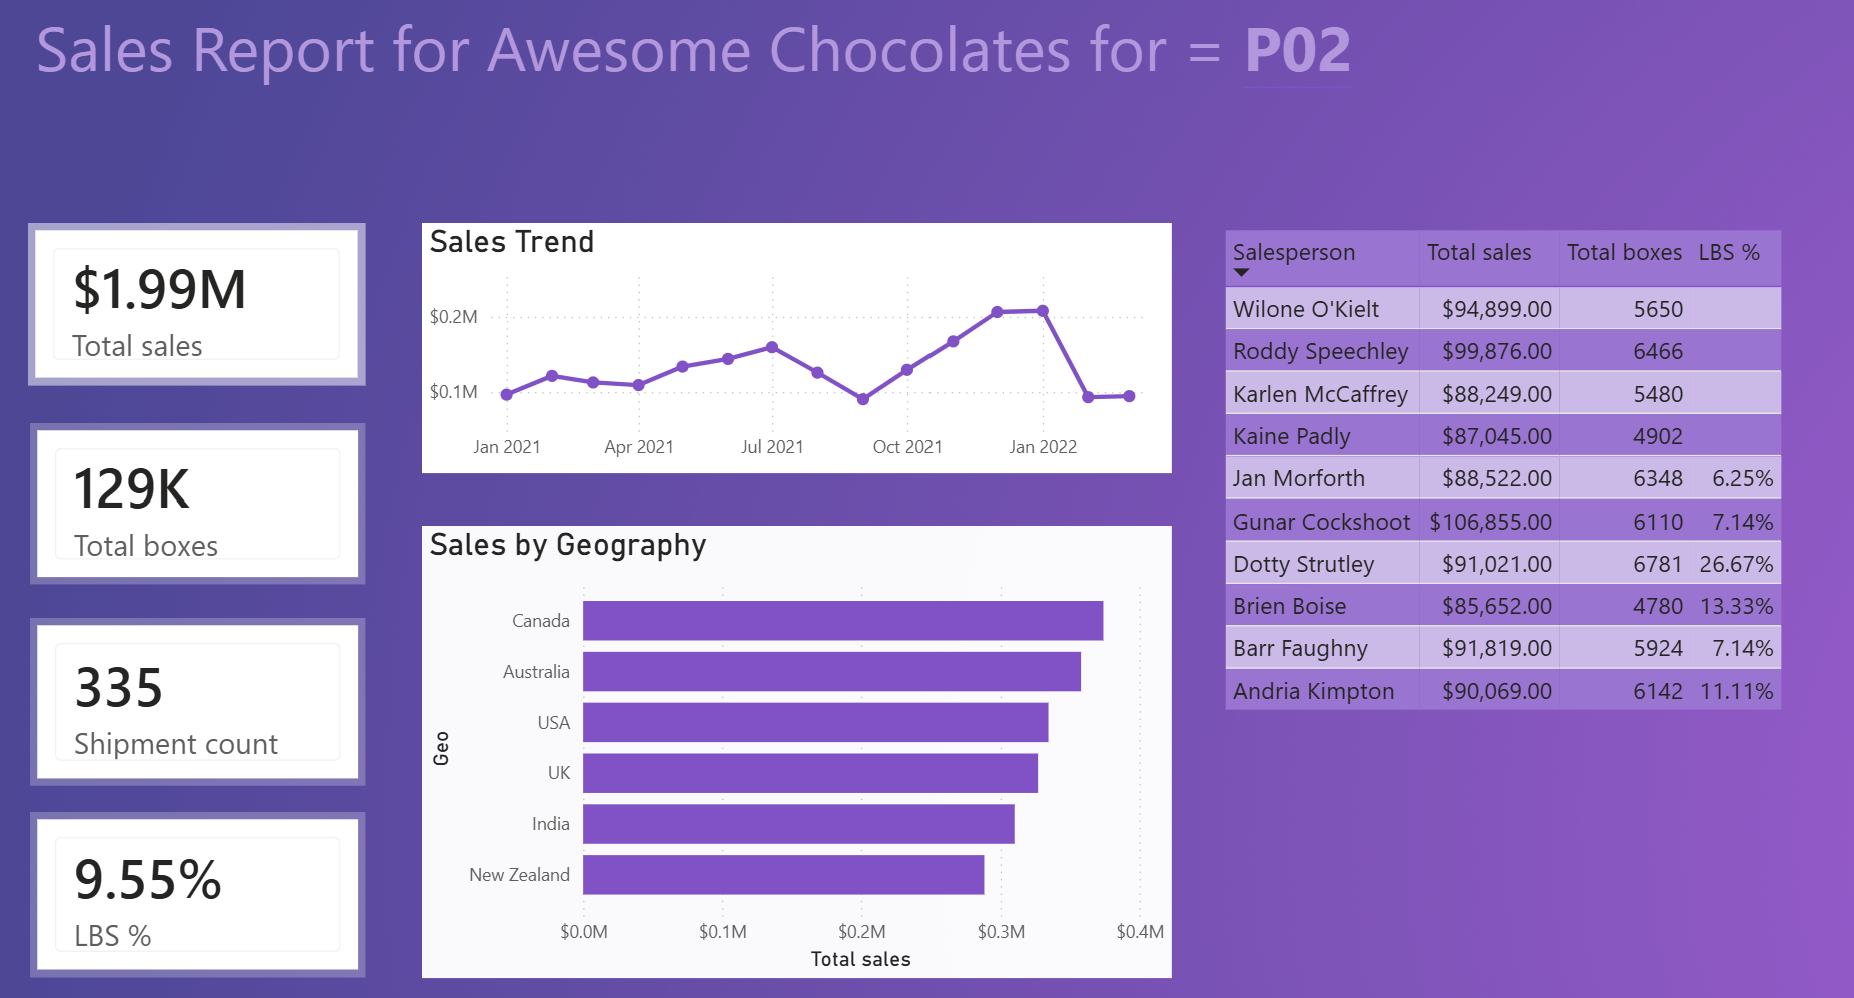

The page's visual inventory and layout, read from the dashboard file:
{"tool":"powerbi","page":{"name":"Page 1","canvas":[1280,720],"ordinal":0},"visuals":[{"type":"cardVisual","fields":{"Data":["sales.Total sales"]},"box":[23.3,188.3,231.7,111.7],"z":0},{"type":"cardVisual","fields":{"Data":["sales.Total boxes"]},"box":[25,325,230,110],"z":1000},{"type":"cardVisual","fields":{"Data":["sales.Shipment count"]},"box":[25,458.3,230,115],"z":2000},{"type":"cardVisual","fields":{"Data":["sales.LBS %"]},"box":[25,591.7,230,113.3],"z":3000},{"type":"lineChart","title":"Sales Trend","fields":{"Y":["sales.Total sales"],"Category":["sales.SaleDate.Variation.Date Hierarchy.Year","sales.SaleDate.Variation.Date Hierarchy.Quarter","sales.SaleDate.Variation.Date Hierarchy.Month"]},"box":[293.3,188.3,513.3,171.7],"z":4000},{"type":"barChart","title":"Sales by Geography","fields":{"Category":["geo.Geo"],"Y":["sales.Total sales"]},"box":[293.3,395,513.3,310],"z":5000},{"type":"tableEx","fields":{"Values":["people.Salesperson","sales.Total sales","sales.Total boxes","sales.LBS %"]},"box":[838.3,188.3,441.7,493.3],"z":6000},{"type":"textbox","box":[23.3,33.3,1256.7,118.3],"z":7000}]}

Visuals, with their boxes on the page's 1280x720 design canvas (x1, y1, x2, y2). These are canvas units, not pixel positions in the 1854x998 screenshot, which may show the page scaled, cropped or inside an application window:
cardVisual - sales.Total sales: left=23, top=188, right=255, bottom=300
cardVisual - sales.Total boxes: left=25, top=325, right=255, bottom=435
cardVisual - sales.Shipment count: left=25, top=458, right=255, bottom=573
cardVisual - sales.LBS %: left=25, top=592, right=255, bottom=705
"Sales Trend" lineChart: left=293, top=188, right=807, bottom=360
"Sales by Geography" barChart: left=293, top=395, right=807, bottom=705
tableEx - people.Salesperson x sales.Total sales: left=838, top=188, right=1280, bottom=682
textbox: left=23, top=33, right=1280, bottom=152
